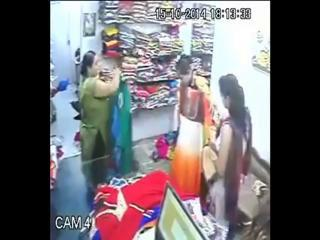Normal: (200, 74, 258, 235), (169, 55, 215, 200), (78, 50, 124, 188), (154, 182, 208, 240)
